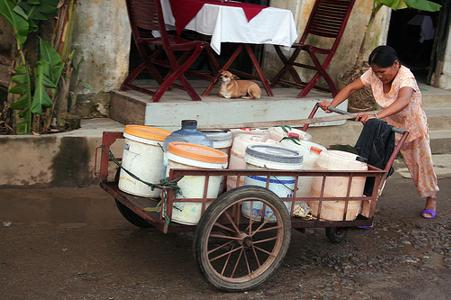person: (315, 43, 441, 221)
